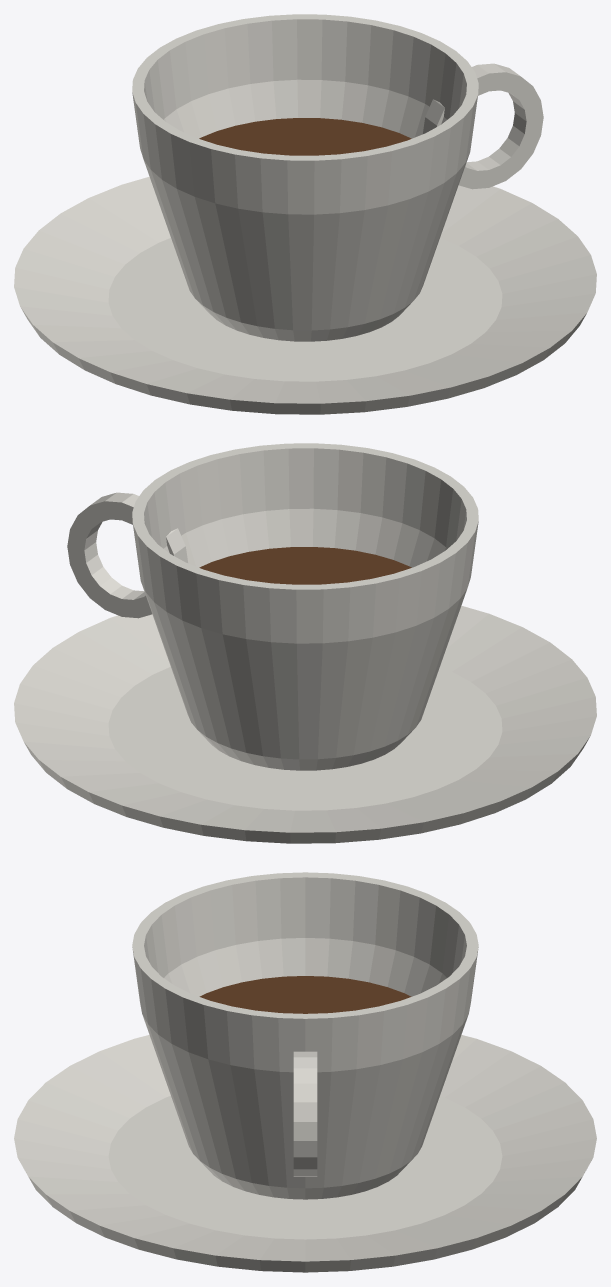
The model's file is Prop_Teacup.fbx.
The picture shows the model from 3 angles, top to bottom: view 1: azimuth 30°, elevation 25°; view 2: azimuth 150°, elevation 25°; view 3: azimuth 270°, elevation 25°; orthographic projection.
Visible parts, largest first — view 1: Teacup_Porcelain, Teacup_Tea; view 2: Teacup_Porcelain, Teacup_Tea; view 3: Teacup_Porcelain, Teacup_Tea.
Part boxes in pixels (x1,y1,x2,y2): Teacup_Porcelain: (14, 14, 596, 414); Teacup_Tea: (199, 118, 411, 155); Teacup_Porcelain: (14, 443, 596, 843); Teacup_Tea: (199, 547, 411, 584); Teacup_Porcelain: (14, 872, 596, 1272); Teacup_Tea: (199, 976, 411, 1013).
Size of the model in its own units: 0.148 by 0.066 by 0.148.
